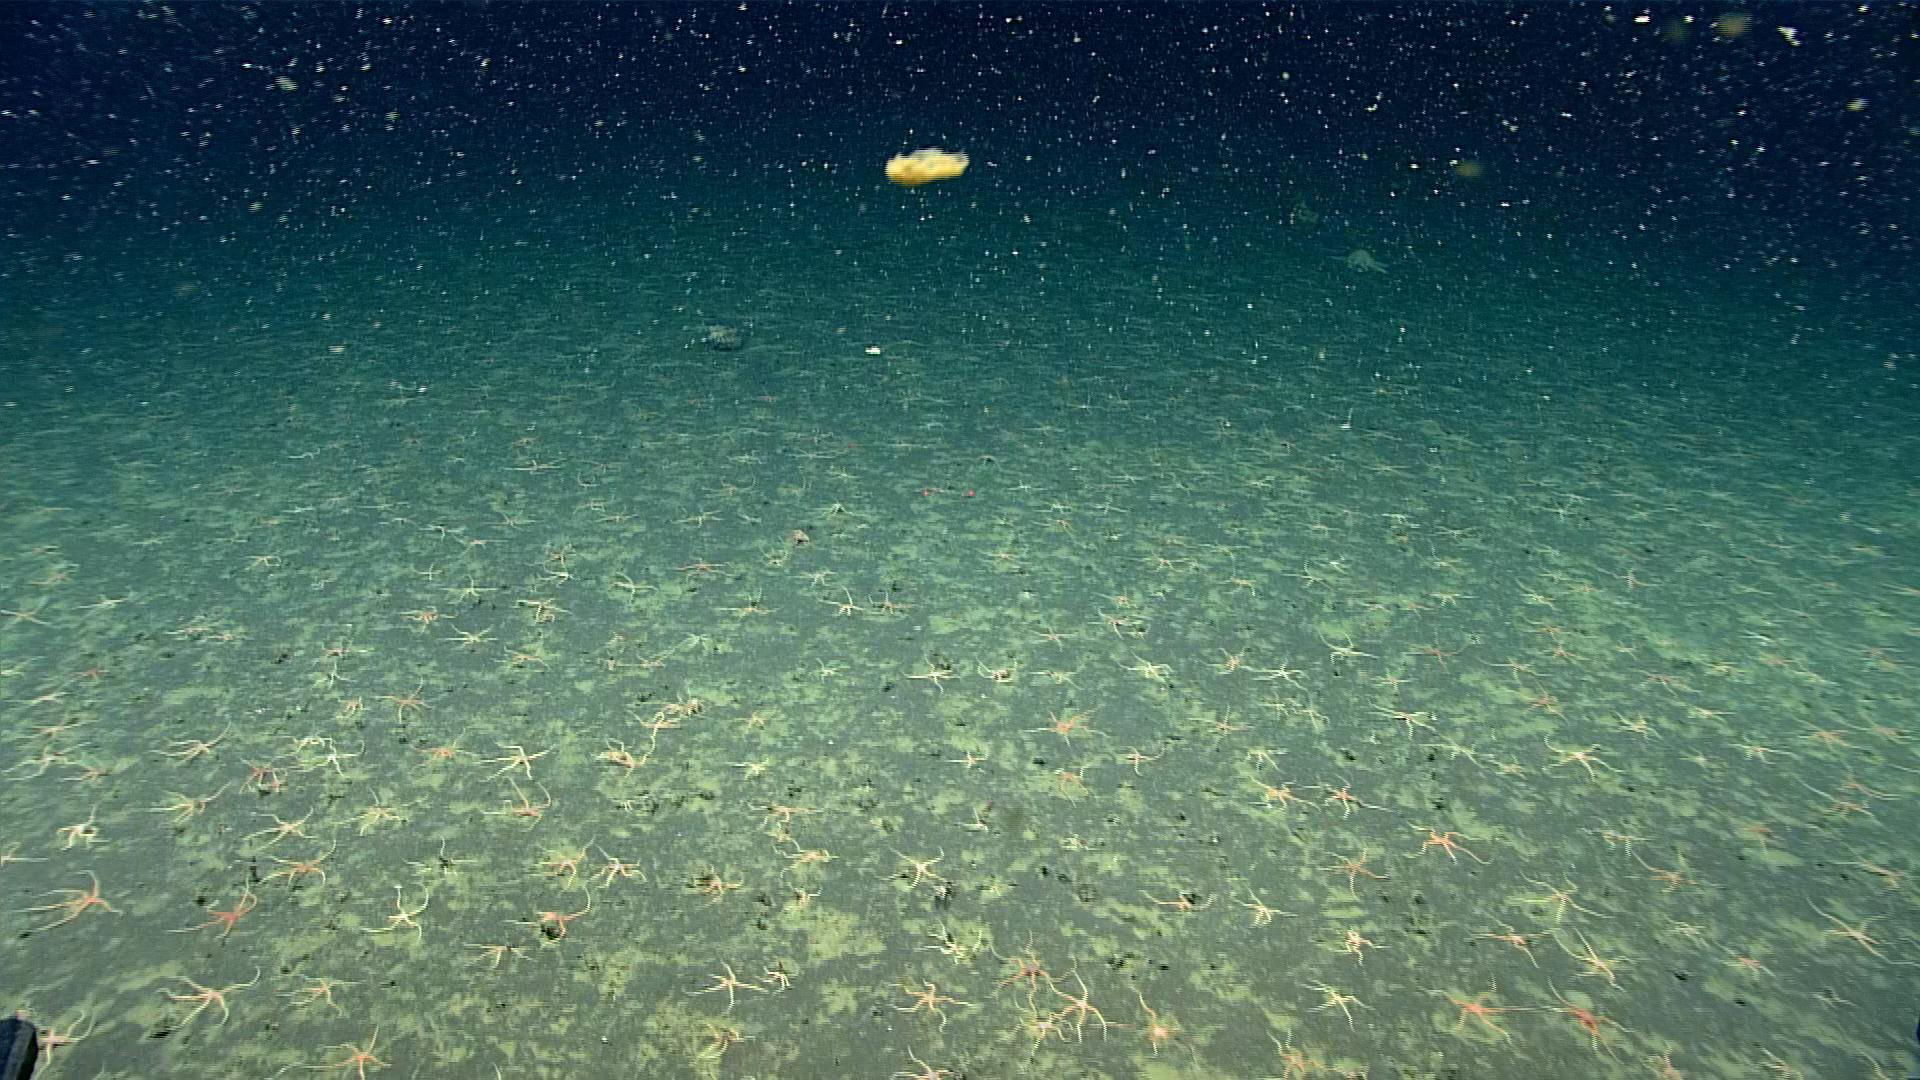brittle_sea_star: (1415, 971, 1540, 1051), (1540, 975, 1634, 1063), (13, 868, 128, 931), (157, 964, 264, 1030), (164, 873, 260, 944), (988, 930, 1068, 1006), (1514, 872, 1615, 928), (1556, 927, 1638, 993), (1801, 897, 1882, 960), (887, 978, 978, 1034), (30, 1006, 102, 1075), (1472, 913, 1556, 968), (680, 961, 767, 1013), (307, 1022, 388, 1076), (332, 785, 423, 832), (1406, 818, 1494, 866), (504, 894, 589, 944), (1625, 847, 1714, 893), (1050, 971, 1106, 1042), (1, 740, 91, 785), (1127, 989, 1185, 1056), (257, 843, 336, 890), (1006, 998, 1069, 1058), (485, 775, 554, 829), (1302, 976, 1375, 1026), (881, 841, 948, 894), (145, 723, 231, 764), (1538, 736, 1618, 779), (1799, 781, 1874, 827), (1319, 849, 1389, 898), (150, 778, 231, 820), (404, 833, 477, 878), (1023, 707, 1104, 748), (534, 835, 596, 887), (1832, 844, 1908, 886), (285, 972, 359, 1015), (367, 887, 430, 938), (1312, 775, 1386, 818), (1241, 771, 1312, 815), (741, 796, 824, 833), (247, 806, 316, 848), (479, 741, 553, 781), (401, 727, 475, 766), (373, 675, 433, 723), (918, 922, 978, 968), (55, 802, 112, 849), (769, 840, 839, 878), (1365, 702, 1435, 740), (462, 935, 535, 971), (1189, 702, 1254, 741), (589, 847, 649, 889), (1236, 887, 1299, 927), (1269, 1025, 1315, 1079), (589, 735, 654, 773), (902, 651, 960, 694), (691, 1019, 748, 1062), (442, 570, 508, 605), (629, 707, 686, 748), (1724, 732, 1796, 764), (890, 1042, 952, 1079), (667, 554, 731, 589), (1317, 626, 1378, 663), (306, 738, 368, 774), (397, 600, 460, 633), (1635, 666, 1697, 699), (235, 754, 286, 794), (1636, 1040, 1689, 1079), (1720, 944, 1774, 981), (1201, 645, 1270, 674), (1482, 654, 1551, 683), (1584, 818, 1642, 852), (1735, 814, 1785, 853), (1799, 716, 1851, 753), (1407, 636, 1464, 670), (1333, 924, 1387, 960), (1120, 650, 1175, 684), (1840, 766, 1892, 802), (601, 571, 657, 604), (24, 715, 96, 740), (0, 593, 53, 628), (721, 587, 774, 621), (497, 644, 549, 678), (682, 873, 745, 901), (446, 620, 500, 651), (1523, 680, 1569, 717), (1427, 733, 1480, 765), (1754, 1046, 1804, 1079), (1255, 658, 1309, 688), (649, 691, 709, 717), (509, 599, 566, 626), (1151, 885, 1211, 911), (976, 542, 1035, 568), (1858, 715, 1909, 745), (0, 837, 53, 866), (1750, 649, 1811, 674), (1317, 1046, 1367, 1076), (1617, 712, 1664, 744), (1663, 916, 1710, 948), (1295, 509, 1346, 538), (538, 560, 589, 589), (307, 663, 356, 694), (1130, 551, 1192, 575), (78, 591, 131, 618), (1095, 608, 1142, 638), (869, 585, 918, 615), (1221, 563, 1262, 597), (1050, 764, 1089, 798), (1027, 509, 1079, 535), (1531, 613, 1573, 645), (1291, 562, 1335, 592), (973, 654, 1017, 683), (9, 687, 73, 707), (1030, 665, 1085, 687), (61, 758, 112, 782), (1607, 564, 1654, 591), (496, 456, 562, 475), (1292, 699, 1331, 731), (1031, 624, 1075, 651), (760, 963, 799, 993), (823, 587, 864, 616), (1124, 745, 1164, 774), (1362, 669, 1415, 691), (725, 756, 771, 779), (696, 479, 754, 497), (164, 622, 208, 646), (1862, 644, 1900, 671), (1489, 756, 1528, 782), (1420, 550, 1466, 572), (306, 641, 355, 662), (808, 655, 847, 682), (629, 651, 674, 674), (944, 749, 992, 770), (281, 732, 331, 752), (450, 534, 502, 553), (799, 564, 841, 587), (1319, 551, 1354, 578), (1687, 703, 1737, 721), (1693, 654, 1734, 676), (786, 884, 820, 910), (1245, 745, 1284, 767), (1543, 642, 1582, 665), (1087, 497, 1126, 520), (1887, 746, 1919, 774), (331, 691, 364, 717), (1676, 749, 1717, 770), (1112, 587, 1146, 612), (782, 521, 818, 545), (1431, 588, 1480, 605), (1262, 692, 1294, 719), (208, 625, 245, 647), (1108, 464, 1149, 484), (74, 659, 112, 680), (1399, 597, 1435, 620), (1725, 579, 1764, 599), (761, 543, 790, 570), (127, 533, 174, 549), (1439, 524, 1482, 541), (674, 510, 717, 527), (733, 709, 767, 731), (1609, 640, 1639, 663), (964, 808, 990, 835), (542, 542, 575, 563), (243, 553, 282, 570), (827, 464, 866, 481), (414, 522, 460, 537), (1238, 473, 1280, 489), (1544, 502, 1582, 520), (815, 497, 852, 514), (605, 629, 632, 650), (414, 562, 442, 580), (595, 655, 620, 674), (579, 498, 612, 512), (1013, 479, 1034, 492)
